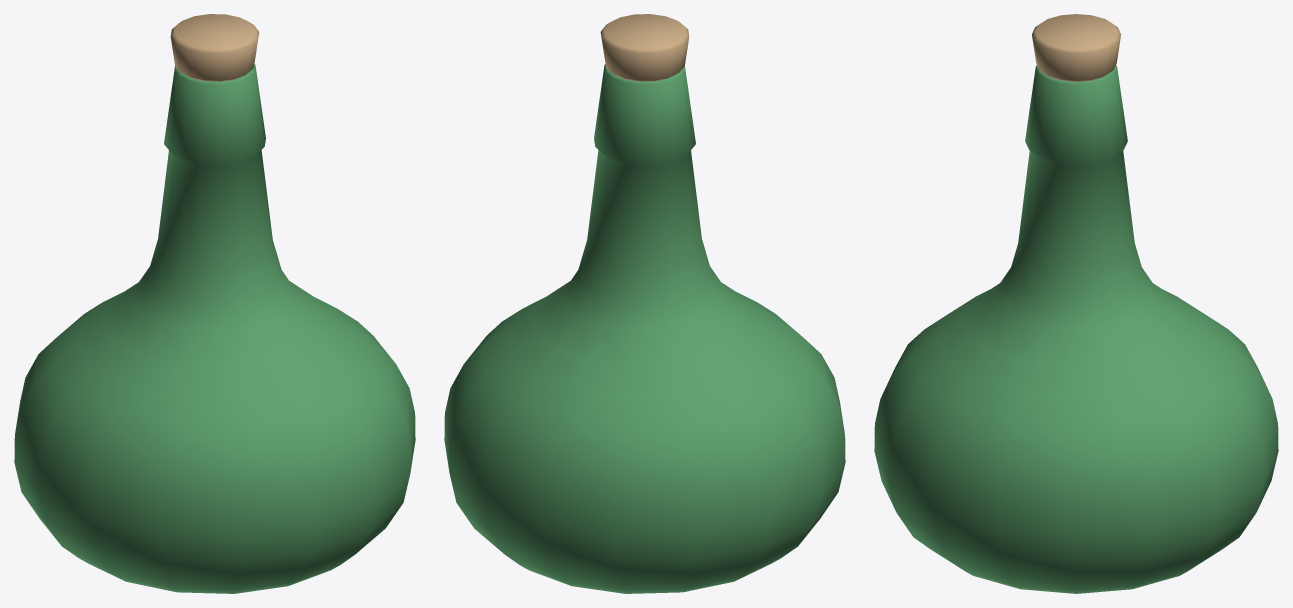
The model's file is Bottle_1.glb.
3 renders of one model, left to right at view 1: azimuth 30°, elevation 25°; view 2: azimuth 150°, elevation 25°; view 3: azimuth 270°, elevation 25°, orthographic.
Parts seen in each view (by area): view 1: Bottle_1_low, Bottle_cork_1_low; view 2: Bottle_1_low, Bottle_cork_1_low; view 3: Bottle_1_low, Bottle_cork_1_low.
Boxes of the visible parts, x1,y1,x2,y2 form: Bottle_1_low: [14, 64, 415, 593]; Bottle_cork_1_low: [170, 14, 259, 81]; Bottle_1_low: [444, 64, 845, 593]; Bottle_cork_1_low: [600, 14, 689, 81]; Bottle_1_low: [874, 65, 1278, 593]; Bottle_cork_1_low: [1032, 14, 1120, 81].
Size of the model in its own units: 0.2083 by 0.2849 by 0.2083.
